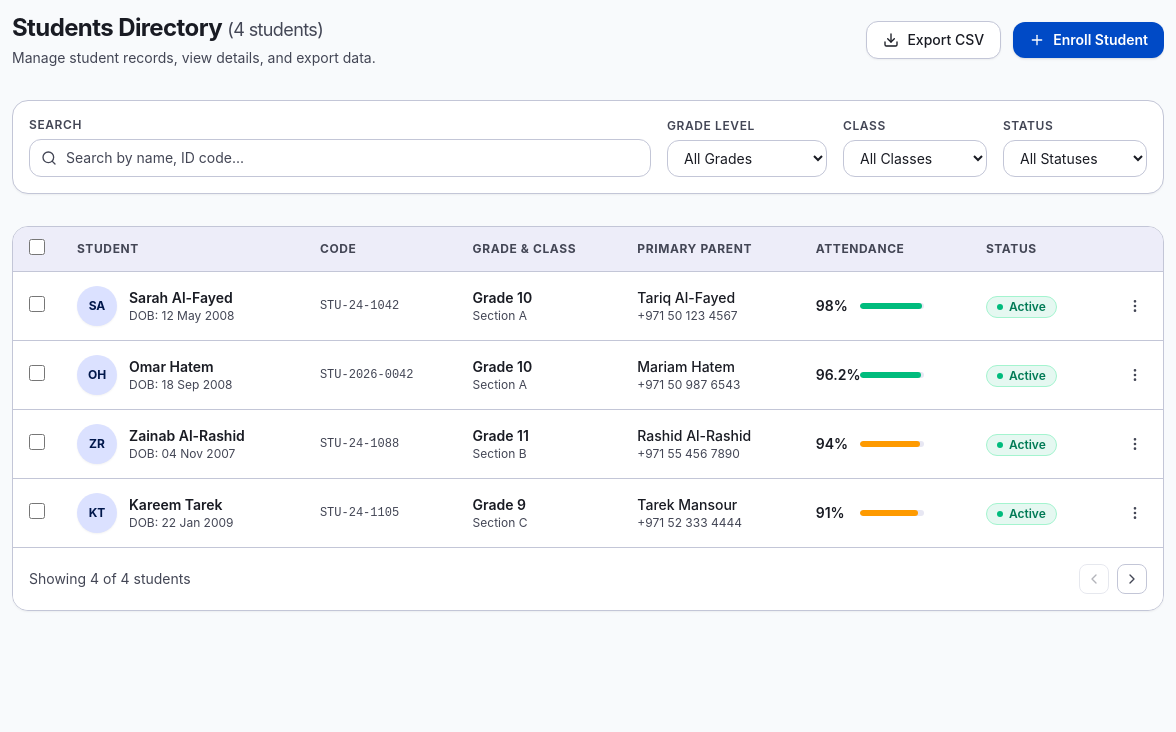
StudentsPage (Students Directory & 360 Profile Stitch Clone) › filters students by search query
In the field with placeholder "Search by name, ID code...": (340, 158) left=29, top=139, right=651, bottom=177, type "Omar"
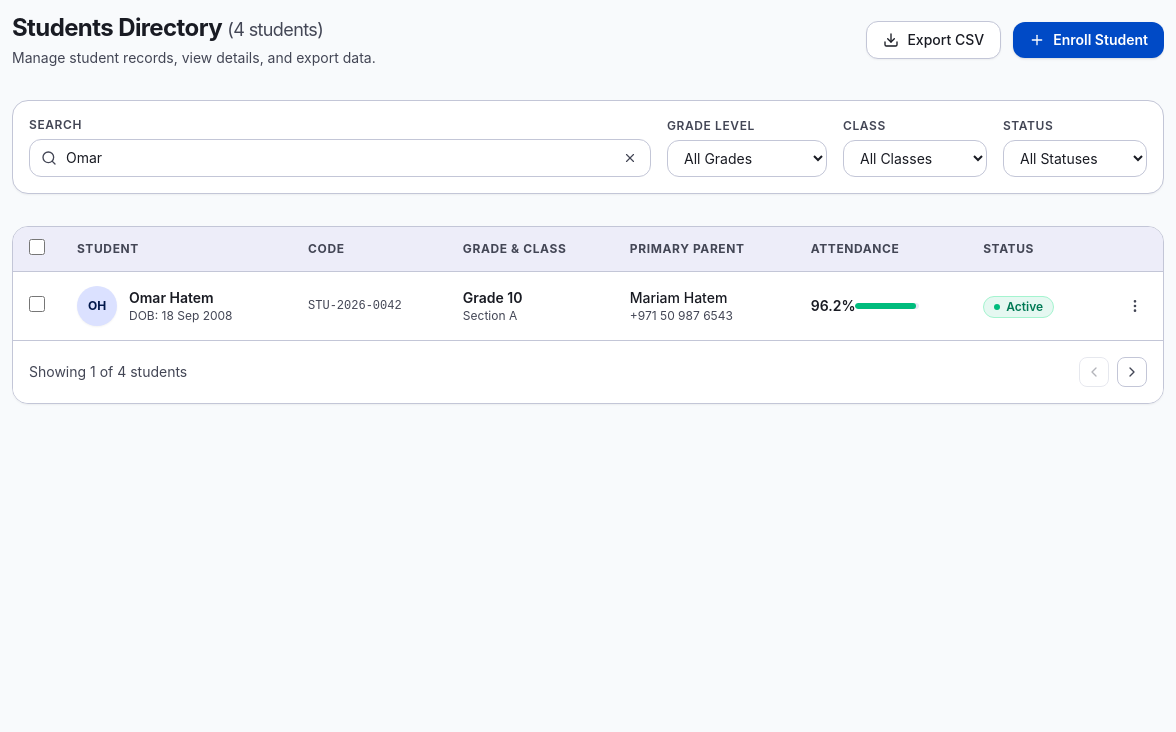
Expected: the text "Omar Hatem" is shown, left=129, top=289, right=214, bottom=306
Expected: the text "Sarah Al-Fayed" is gone
